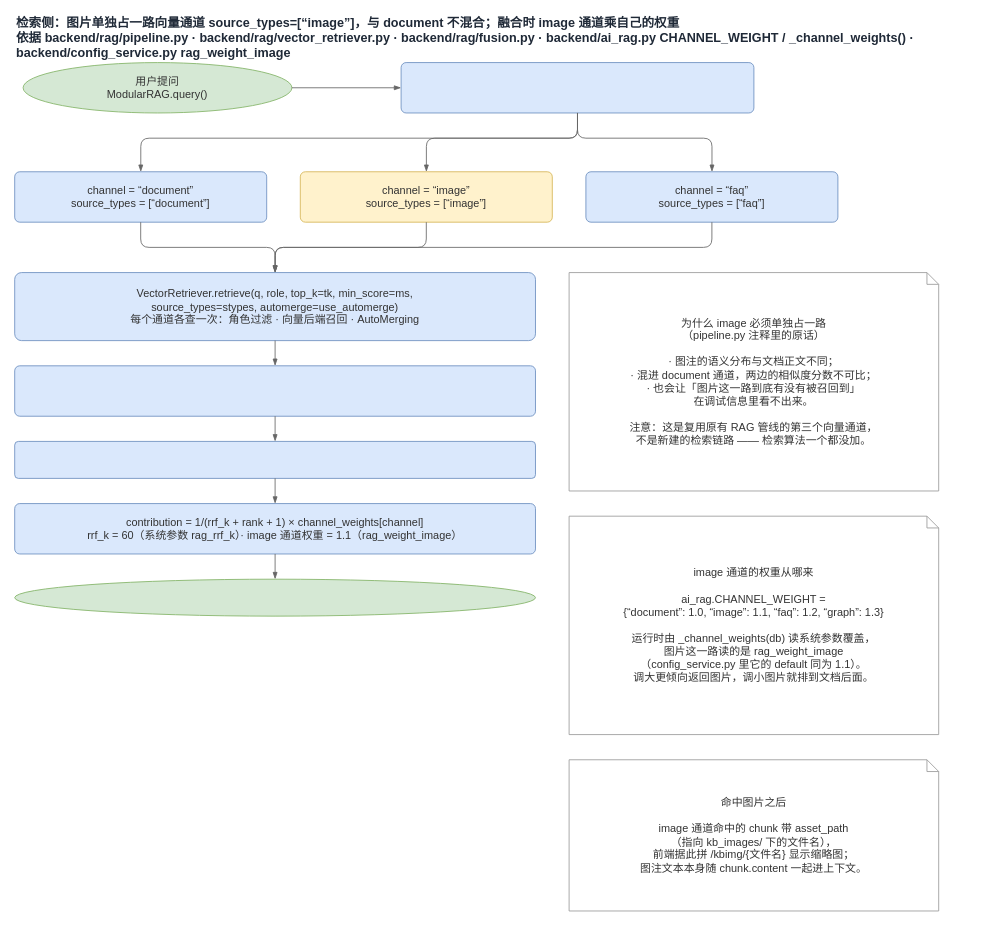
This 1004x926 diagram has some shape labels left out. Here are the shapes that lost their labels. From the top down, the centre of each, then its label:
[577,87]: ② 多路召回：每个查询变体 对三个向量通道各跑一遍
[275,390]: 每个通道只返回自己那一类的候选，互不混合 all_vec_hits 里用 channel 字段标记这条来自哪一路
[275,459]: ③ 加权 RRF 融合 FusionModule.fuse(all_kw_hits, all_vec_hits, all_graph_hits)
[275,597]: ④ 重排 → ⑤ 上下文构建 → 交千问大模型生成答案
